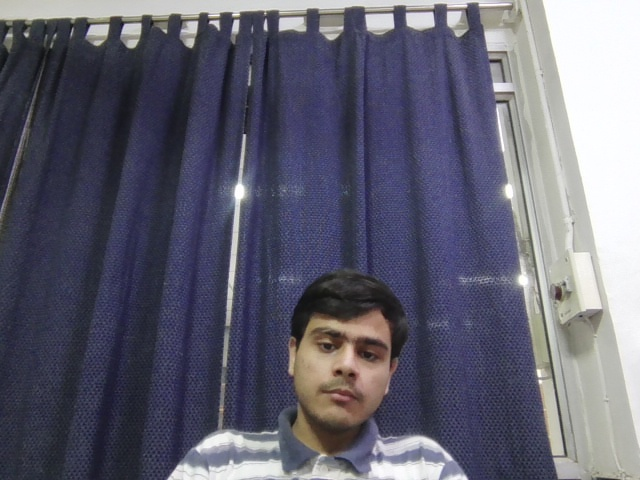face: (288, 271, 405, 429)
